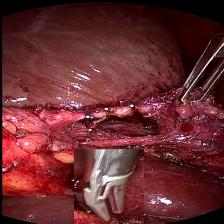Clipper: (171, 37, 224, 105)
Grasper: (73, 149, 143, 224)
